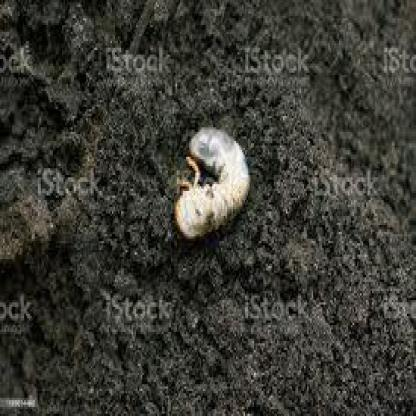root grubs: (175, 125, 250, 239)
